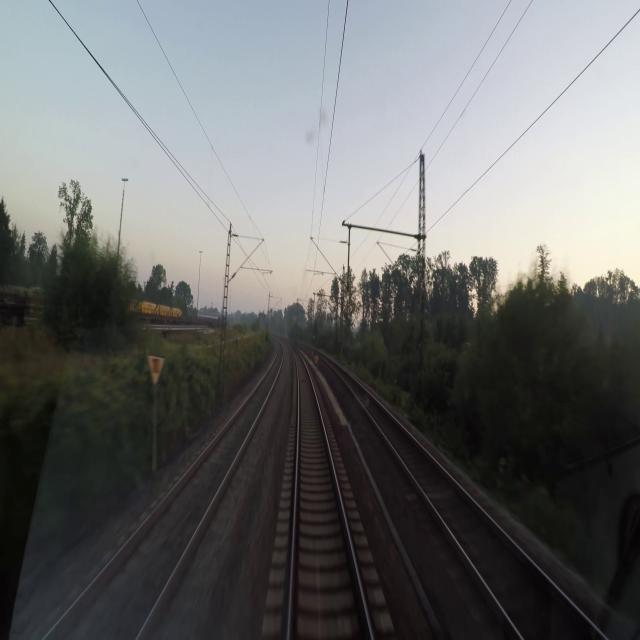rail-track: (337, 367, 601, 639), (47, 345, 281, 639), (291, 351, 370, 639)
